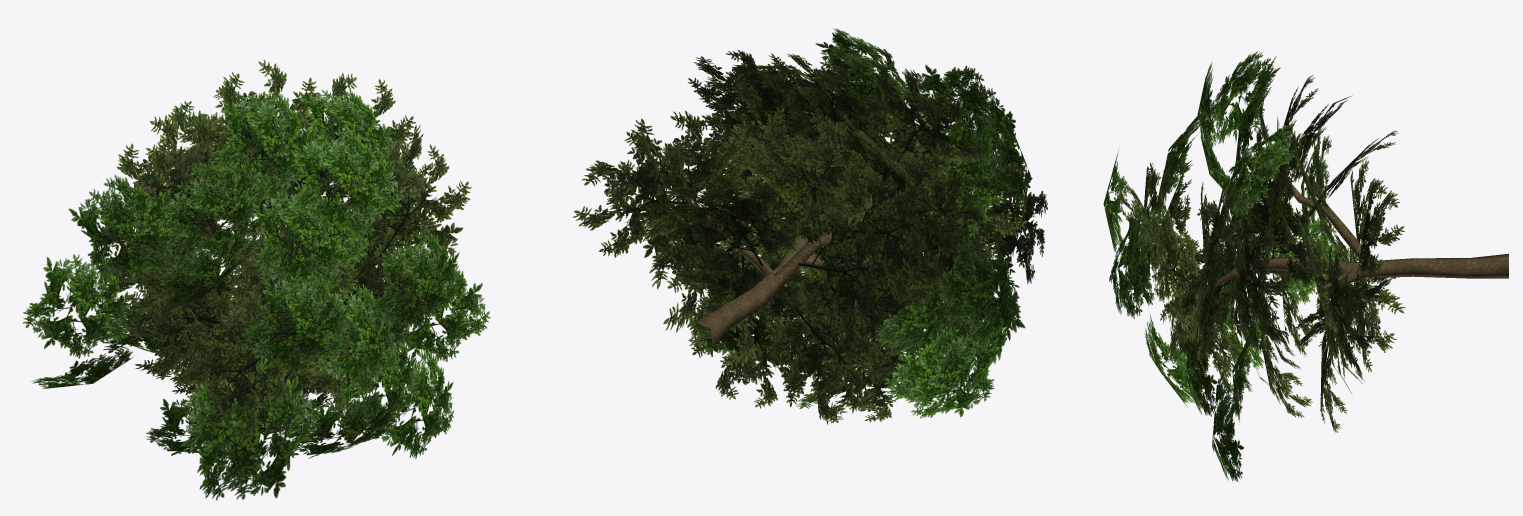
Rendered from dashu01.gltf.
The picture shows the model from 3 angles, left to right: view 1: azimuth 30°, elevation 25°; view 2: azimuth 150°, elevation 25°; view 3: azimuth 270°, elevation 25°; orthographic projection. The views are drawn at different scales.
Visible parts, largest first — view 1: Group_MatrixTransform_dashu01_Geometry_2, Group_MatrixTransform_dashu01_Geometry_1, Group_MatrixTransform_dashu01_Geometry_0; view 2: Group_MatrixTransform_dashu01_Geometry_1, Group_MatrixTransform_dashu01_Geometry_2, Group_MatrixTransform_dashu01_Geometry_0; view 3: Group_MatrixTransform_dashu01_Geometry_1, Group_MatrixTransform_dashu01_Geometry_2, Group_MatrixTransform_dashu01_Geometry_0.
Boxes of the visible parts, bbox=[...] form: Group_MatrixTransform_dashu01_Geometry_2: bbox=[22, 90, 490, 500]; Group_MatrixTransform_dashu01_Geometry_1: bbox=[97, 59, 471, 457]; Group_MatrixTransform_dashu01_Geometry_0: bbox=[134, 178, 347, 354]; Group_MatrixTransform_dashu01_Geometry_1: bbox=[572, 50, 1047, 424]; Group_MatrixTransform_dashu01_Geometry_2: bbox=[661, 28, 1031, 418]; Group_MatrixTransform_dashu01_Geometry_0: bbox=[684, 197, 912, 345]; Group_MatrixTransform_dashu01_Geometry_1: bbox=[1118, 56, 1405, 432]; Group_MatrixTransform_dashu01_Geometry_2: bbox=[1103, 51, 1376, 482]; Group_MatrixTransform_dashu01_Geometry_0: bbox=[1193, 168, 1508, 296].
Bounding box in the file's own units: 14.62 × 12.75 × 12.44.
Materials: 3 (3 with a texture image).
